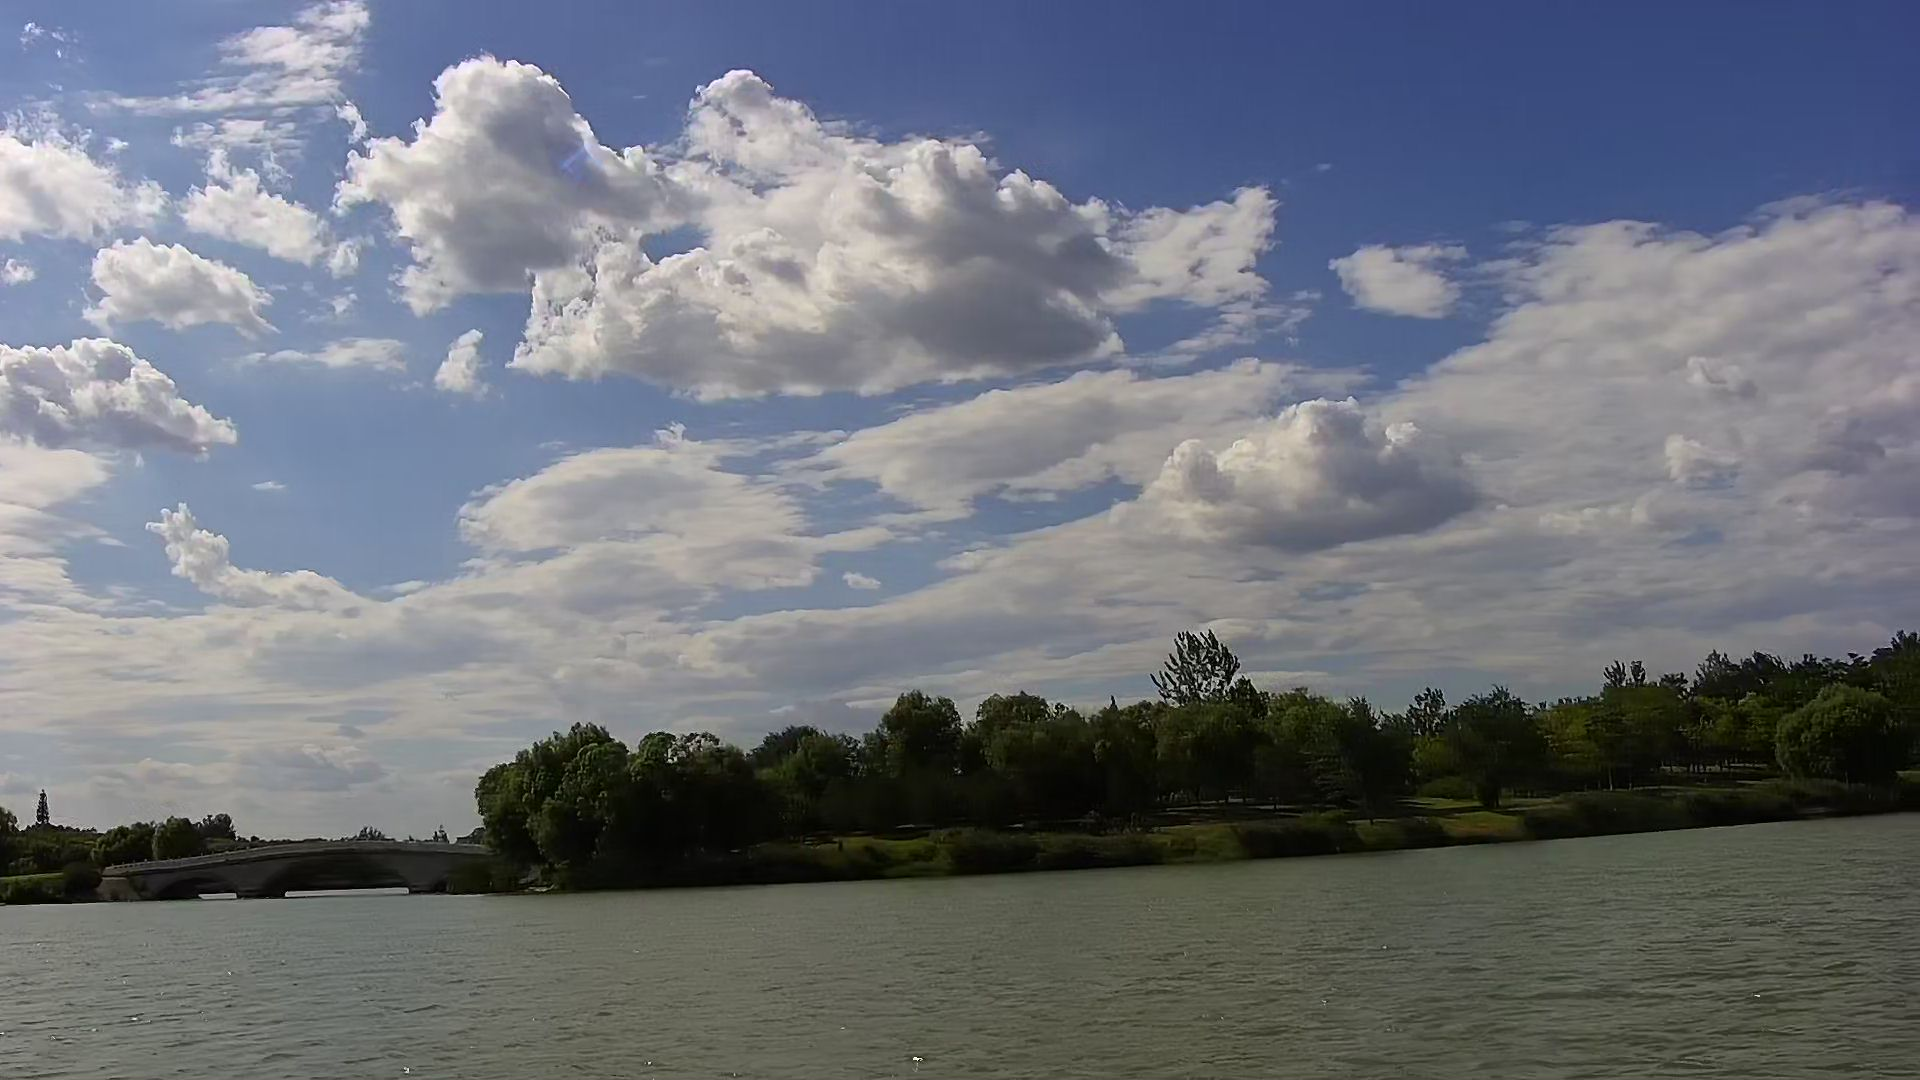bridge: (102, 843, 493, 899)
